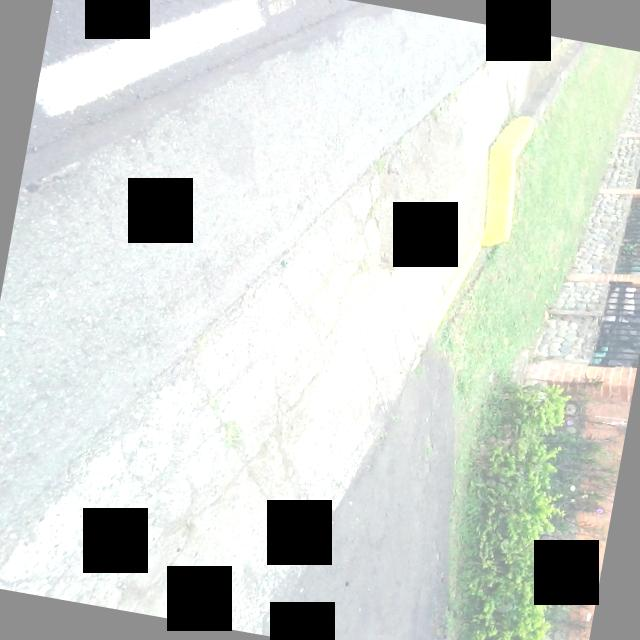DITCH: (0, 0, 597, 640), (0, 0, 587, 640)
